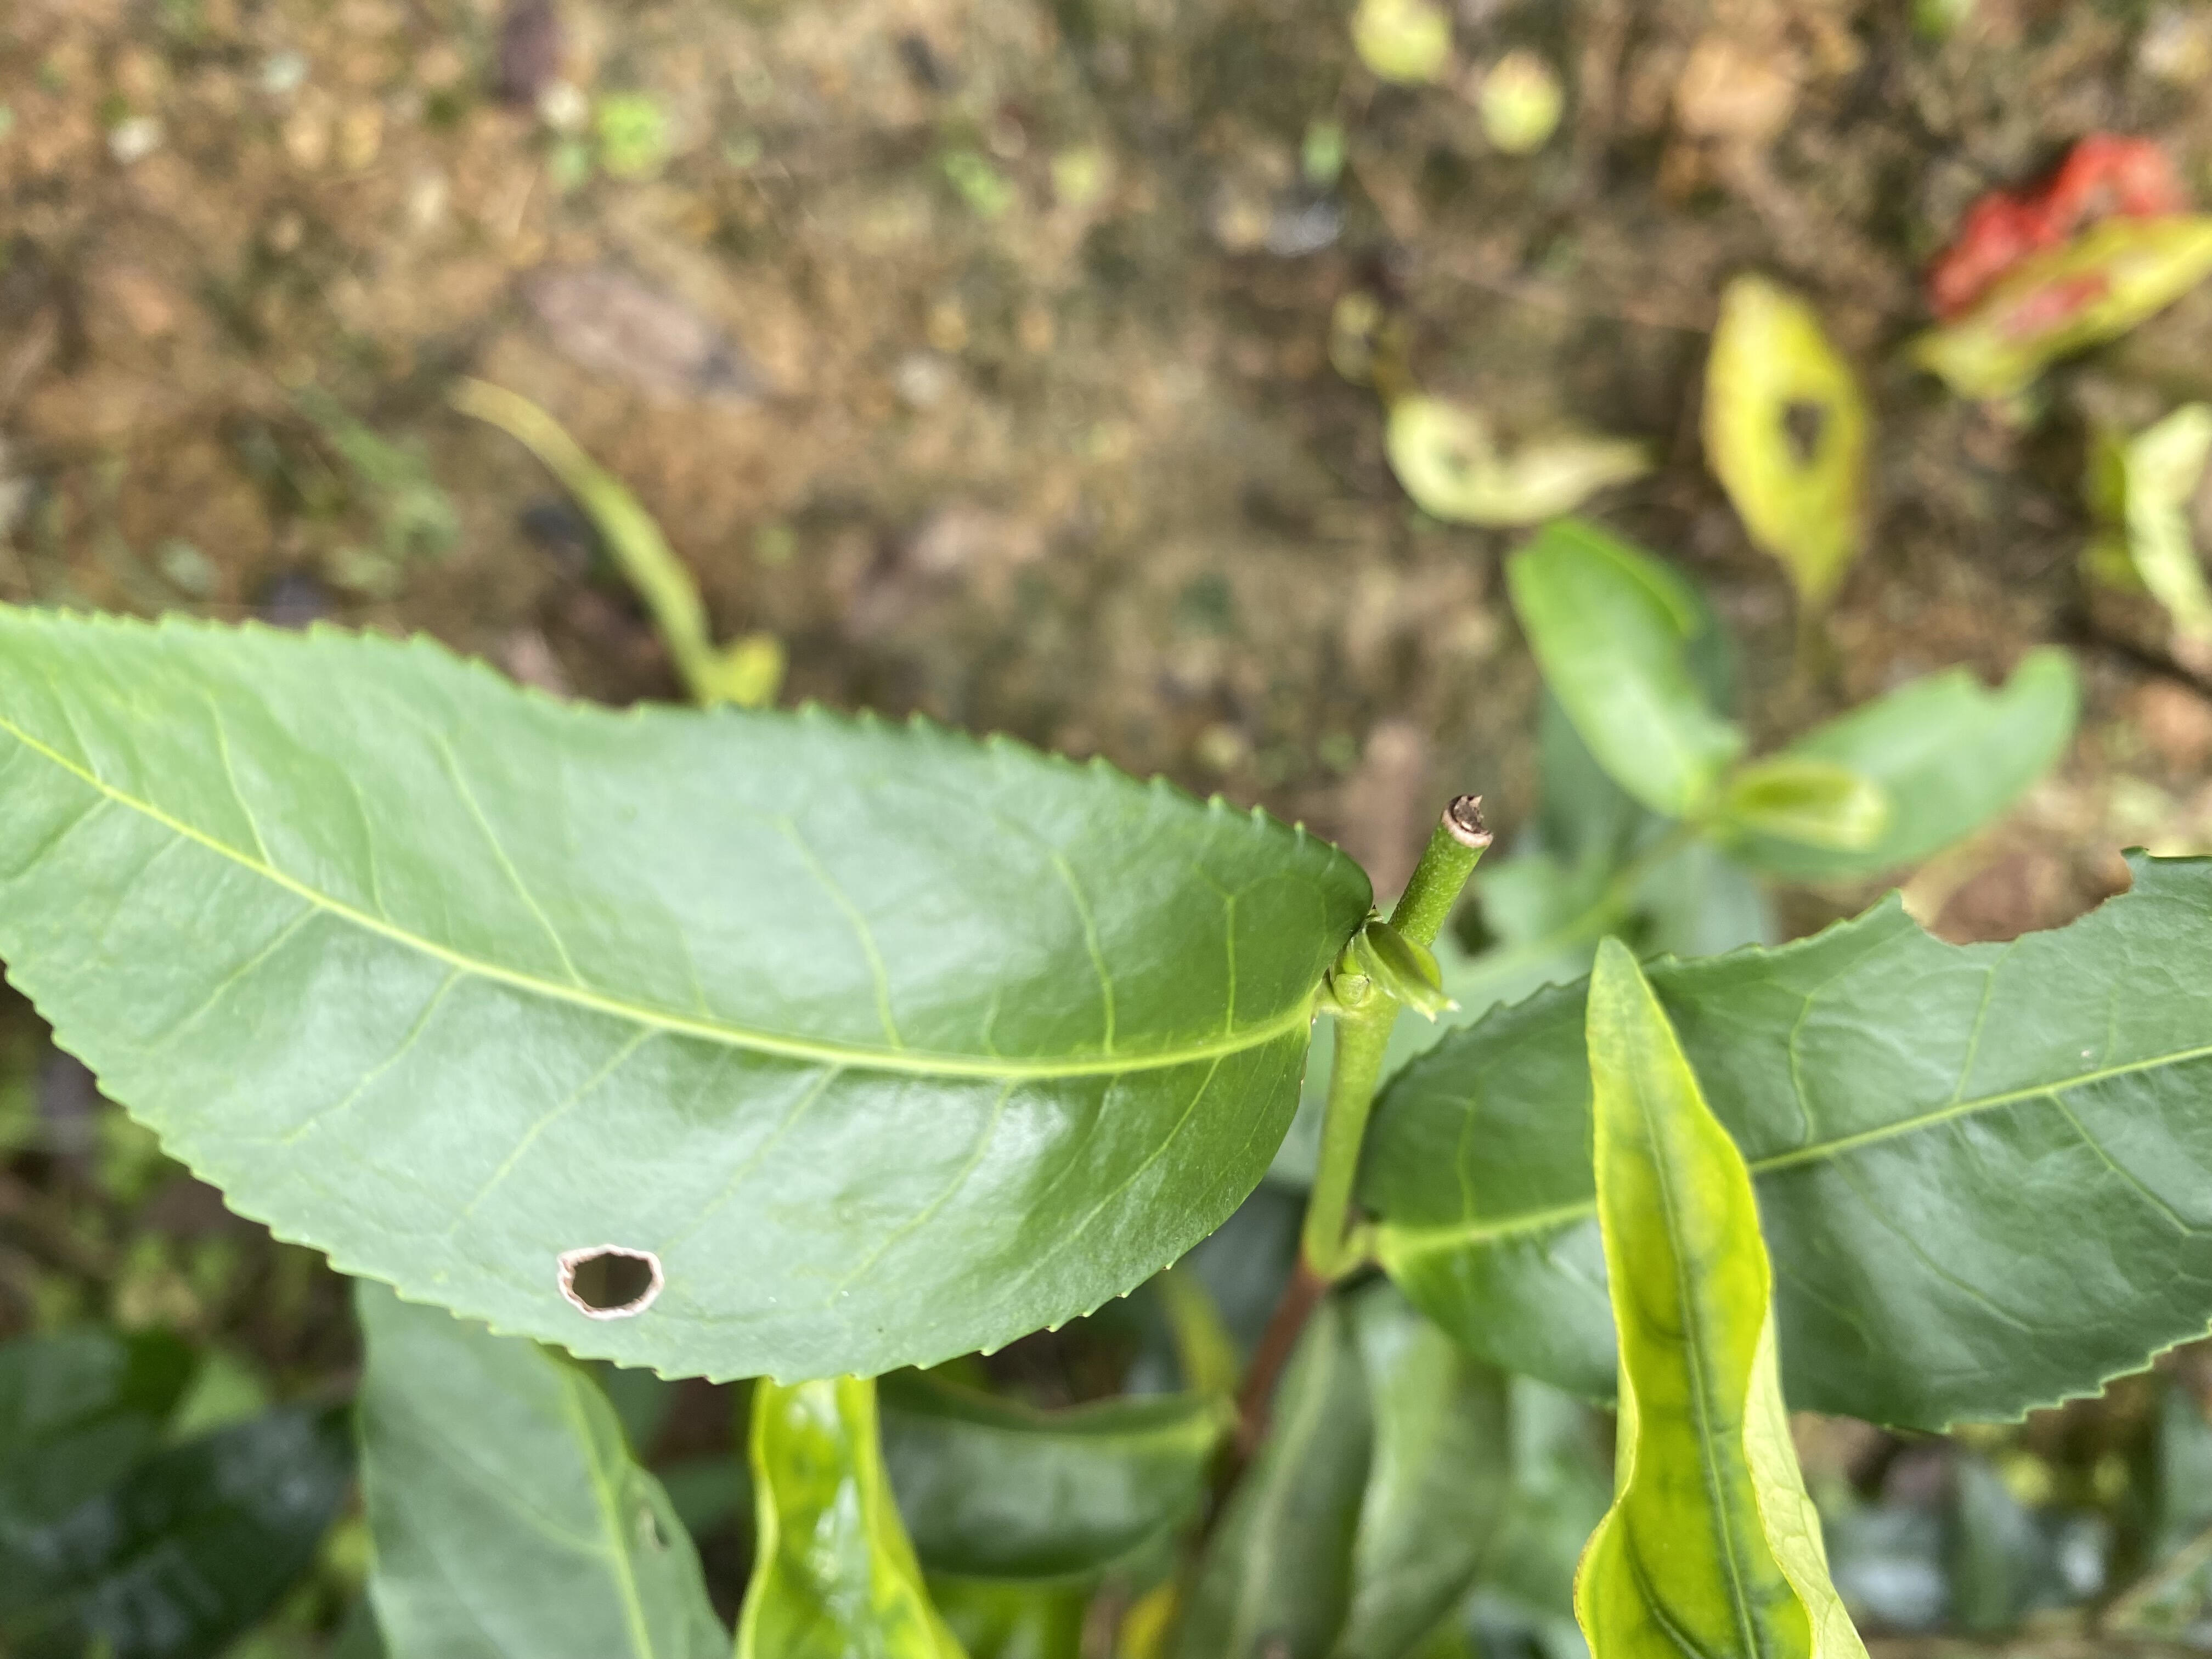chihuo_low: (2, 599, 1376, 1392), (1359, 847, 2209, 1434)
healthy: (1575, 932, 1871, 1656)
